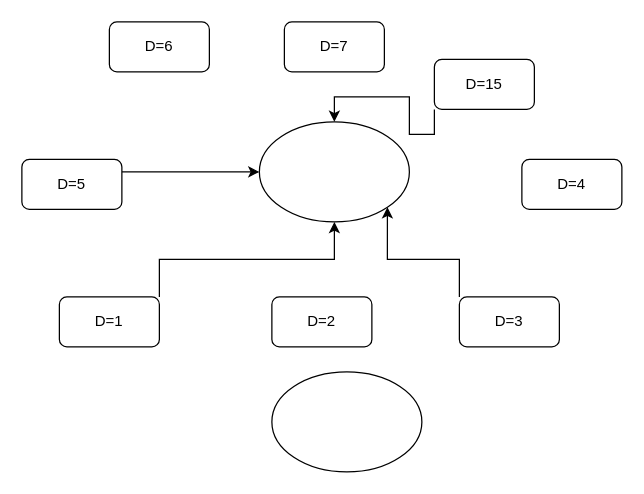
Some shapes in this 644 by 494 pixel diagram are drawn without their labels. Each missing label, with the centre of its shape:
Find the ones that divides with x!: point 346,421
x=15: point 333,171
